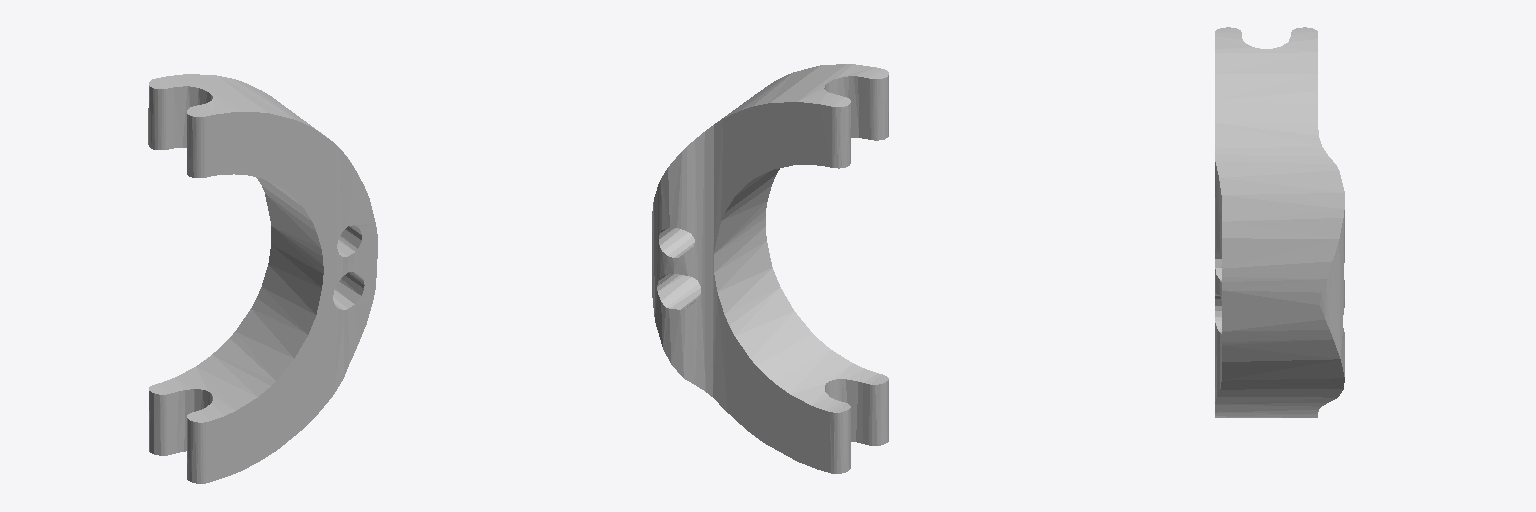
Rendered from seg26.OBJ.
3 views of the same model, side by side, from view 1: azimuth 30°, elevation 25°; view 2: azimuth 150°, elevation 25°; view 3: azimuth 270°, elevation 25° (orthographic).
Parts seen in each view (by area): view 1: /ambf/env/seg26_seg26; view 2: /ambf/env/seg26_seg26; view 3: /ambf/env/seg26_seg26.
Part boxes in pixels (left/top/right/bottom): /ambf/env/seg26_seg26: left=148, top=74, right=377, bottom=483; /ambf/env/seg26_seg26: left=652, top=64, right=888, bottom=473; /ambf/env/seg26_seg26: left=1215, top=27, right=1344, bottom=417.
Bounding box in the file's own units: 0.0032 × 0.006 × 0.0019.